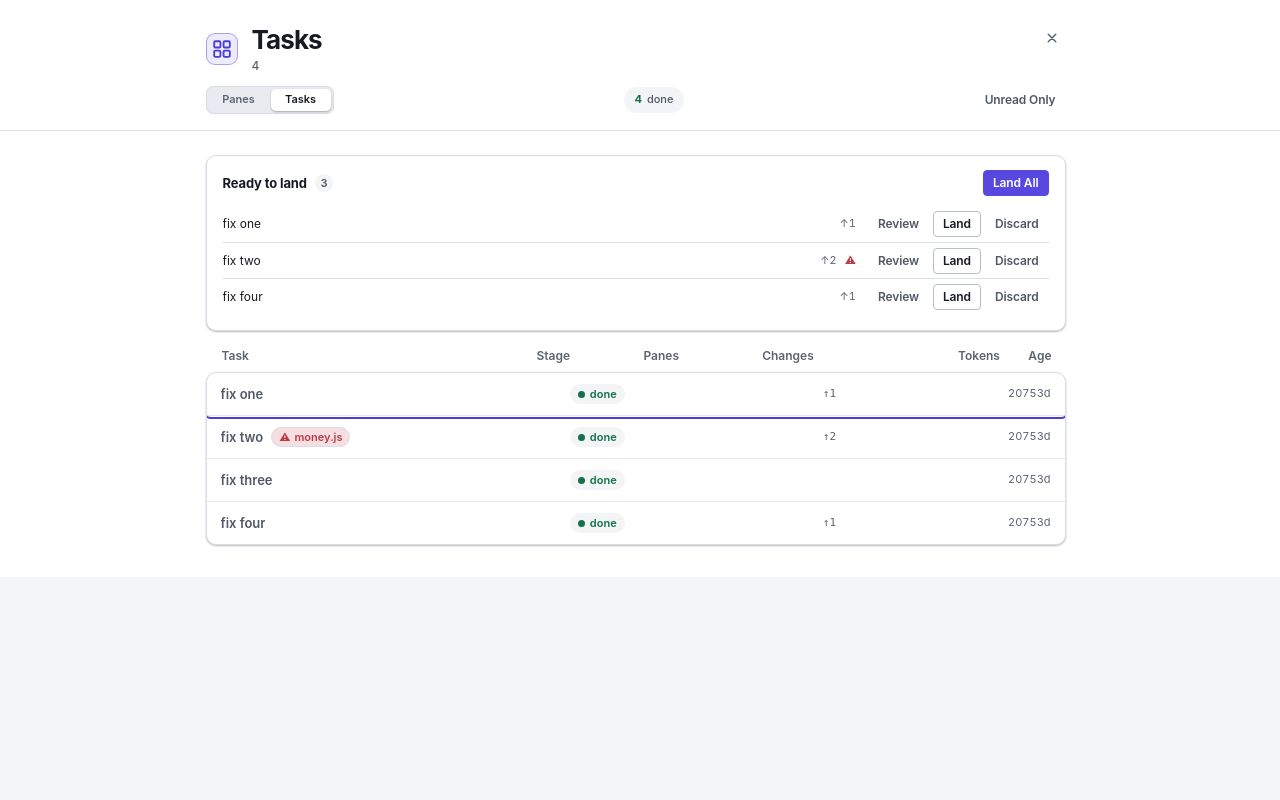
Test: the landing queue › Land All asks first, listing what lands in order, with Push as a single Land has it
Click the button "Land All": (1016,183) [983, 170, 1048, 196]
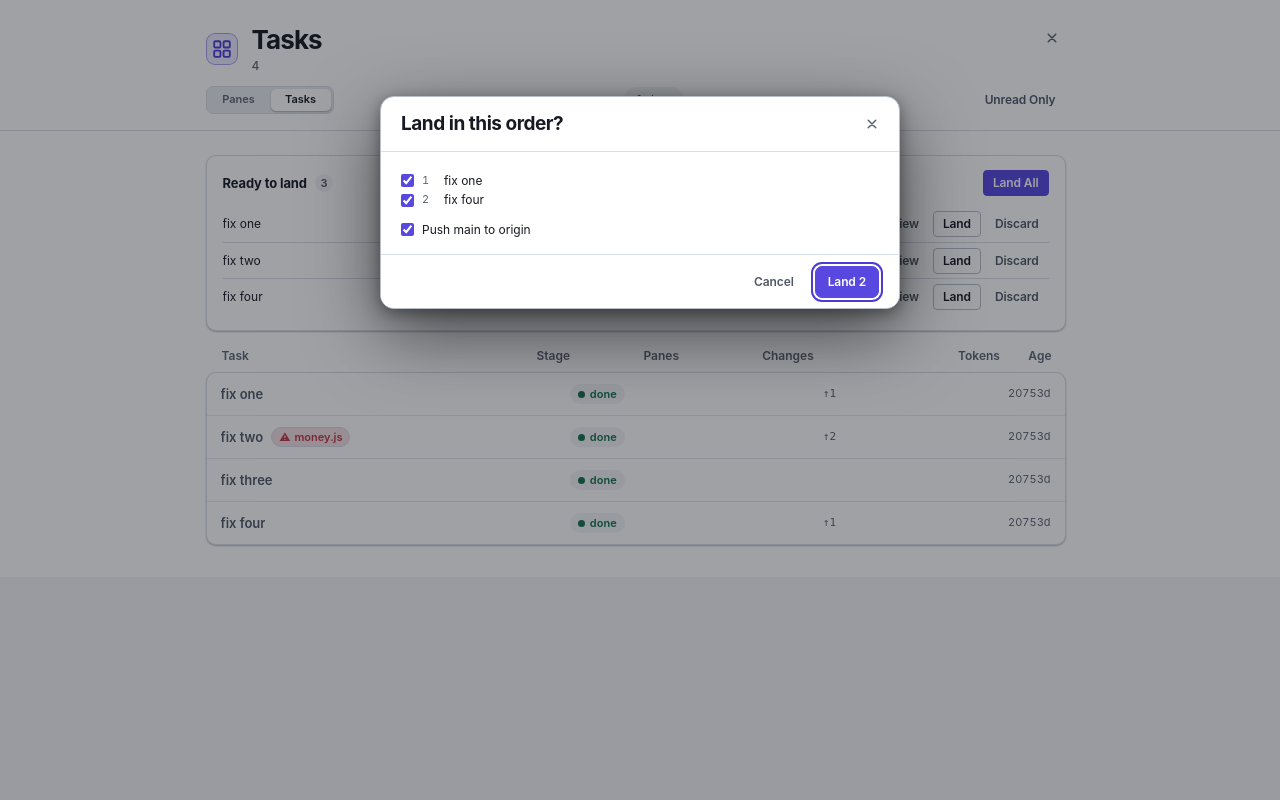
Expected: the checkbox labelled "Push main to origin" is checked, [401, 223, 414, 236]
Click the checkbox labelled "fix one": (408,181) [401, 174, 414, 187]
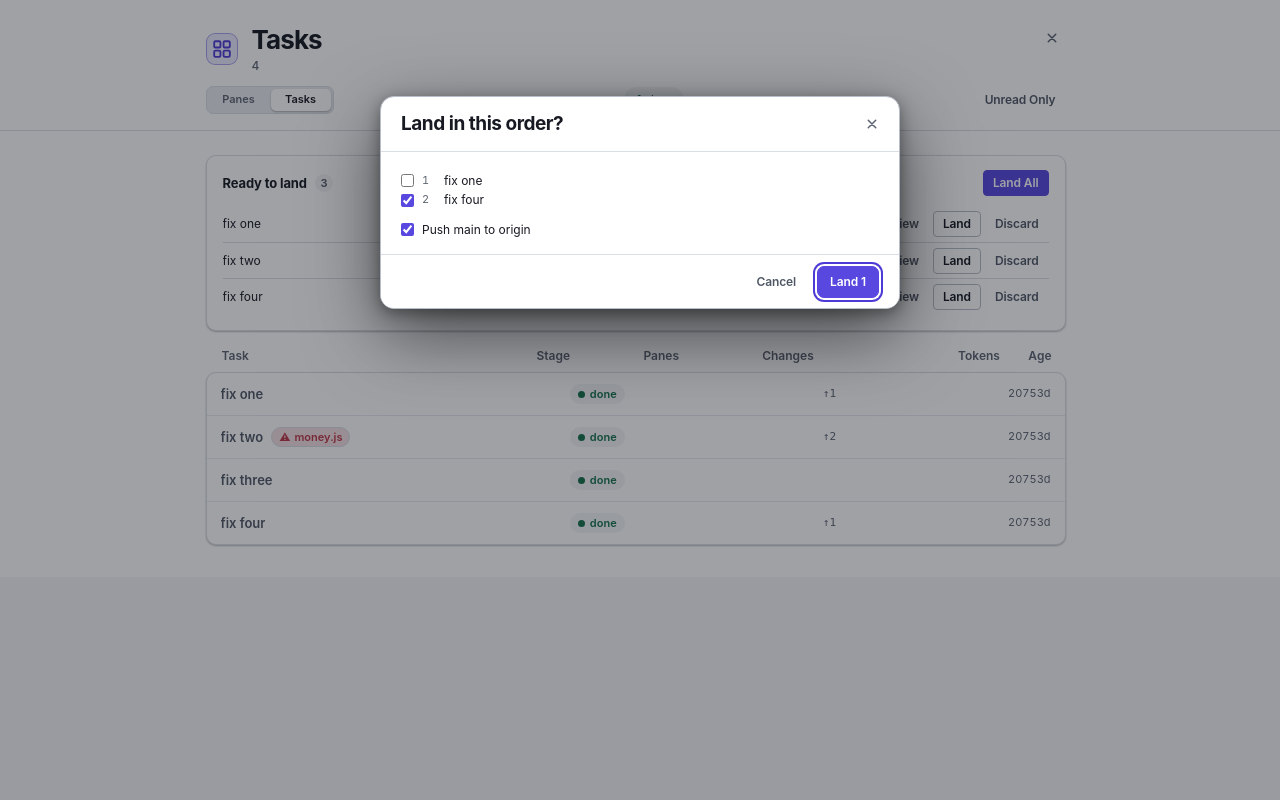
Click the button "Land 1": (848,282) [817, 266, 879, 298]
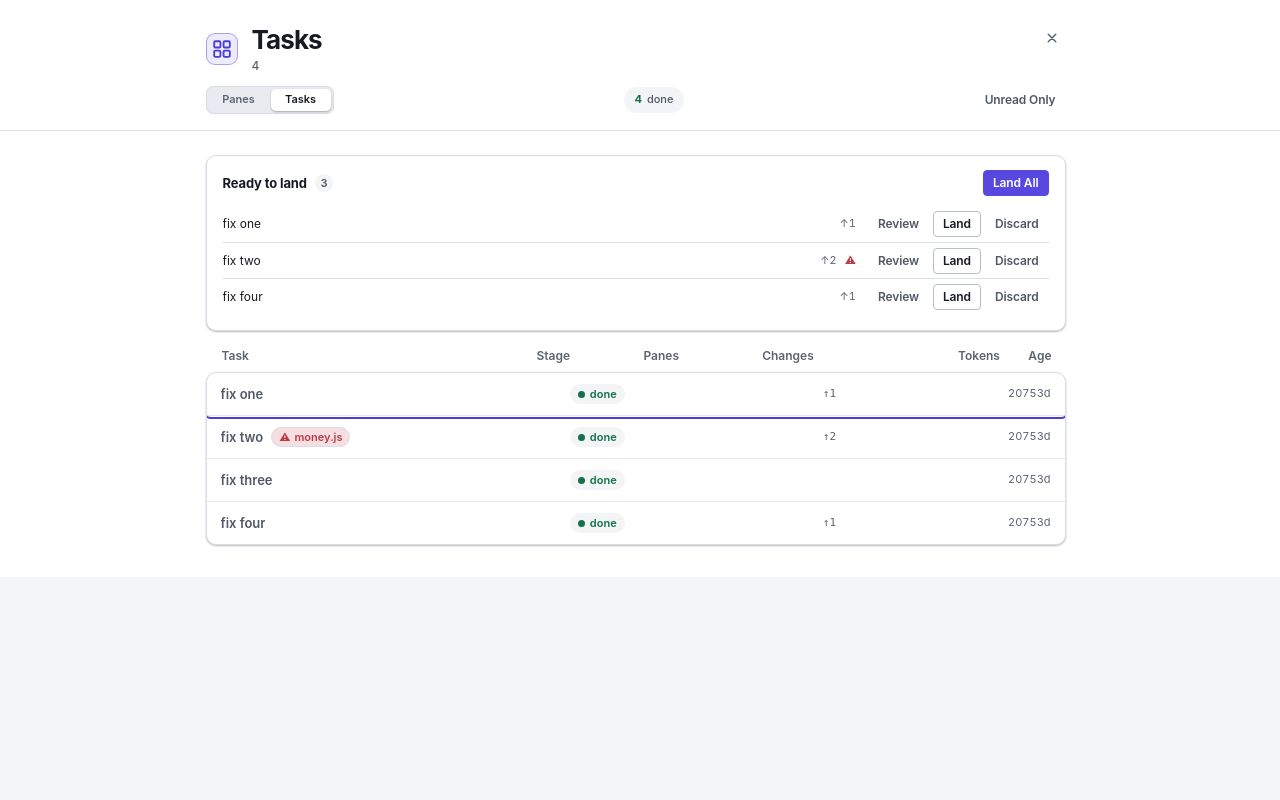
Expected: the dialog is gone
